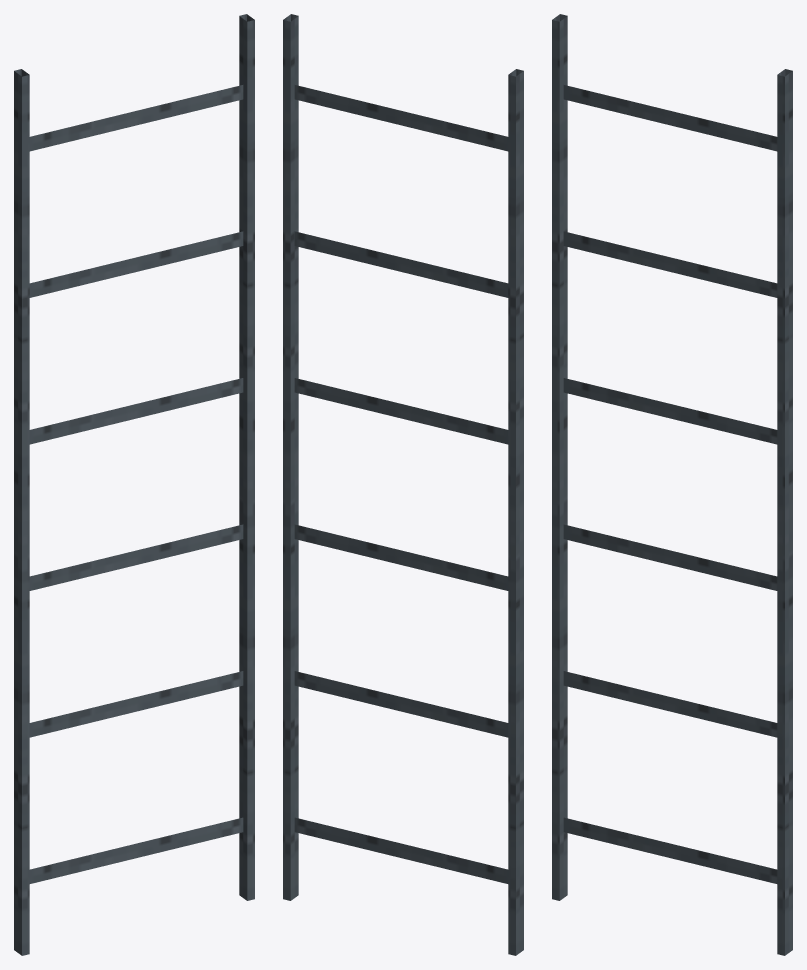
Rendered from mMetalLadderS01.obj.
3 renders of one model, left to right at view 1: azimuth 30°, elevation 25°; view 2: azimuth 150°, elevation 25°; view 3: azimuth 330°, elevation 25°, orthographic.
Parts seen in each view (by area): view 1: MetalLadderS01; view 2: MetalLadderS01; view 3: MetalLadderS01.
Part boxes in pixels (x1,y1,x2,y2): MetalLadderS01: [14, 14, 254, 955]; MetalLadderS01: [283, 14, 523, 955]; MetalLadderS01: [552, 14, 792, 955].
Bounding box in the file's own units: 1.66 × 6 × 0.1.
